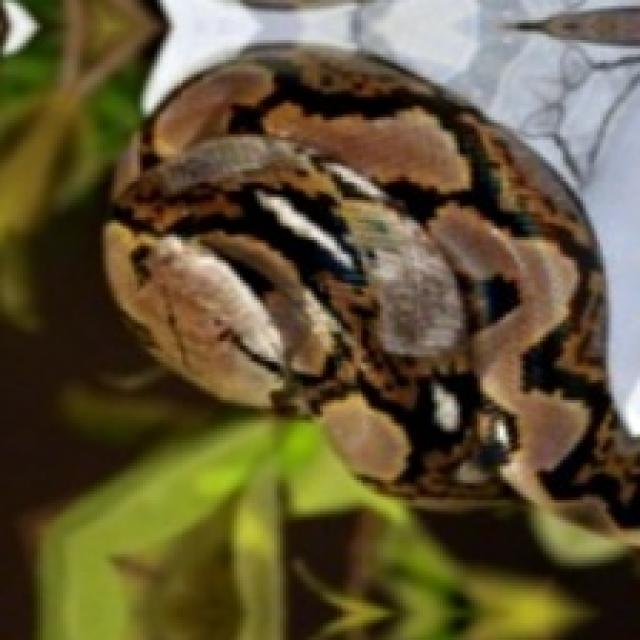reticulated python: (106, 46, 637, 563)
